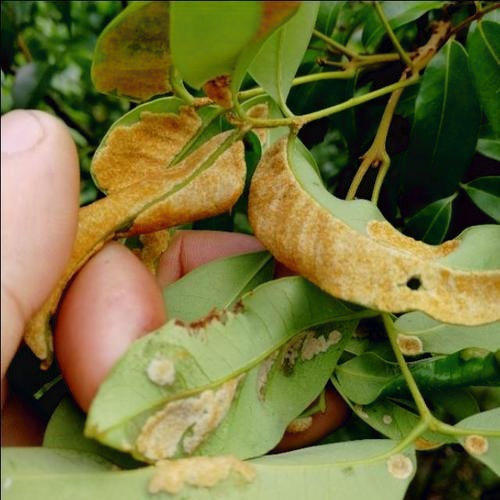Gall_Mite: (241, 131, 480, 336), (36, 94, 228, 312), (110, 357, 307, 497), (348, 349, 488, 479), (112, 6, 228, 66)
